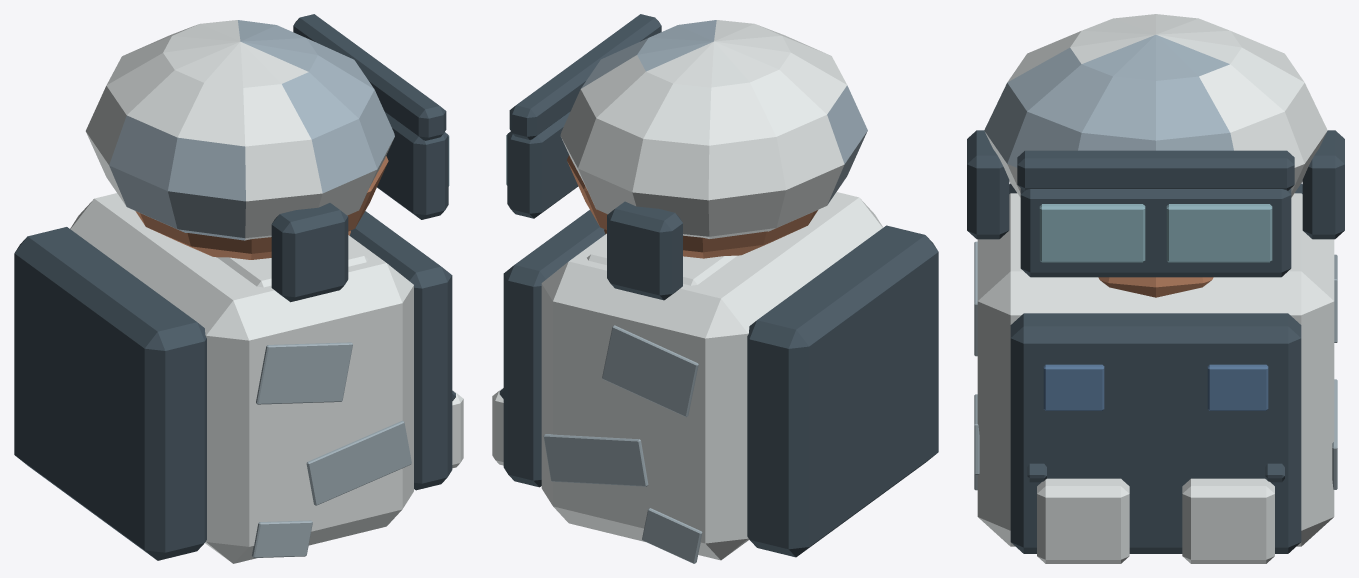
The model's file is night-ops.polar-camo.glb.
3 views of the same model, side by side, from view 1: azimuth 30°, elevation 25°; view 2: azimuth 150°, elevation 25°; view 3: azimuth 270°, elevation 25° (orthographic). The views are drawn at different scales.
Visible parts, largest first — view 1: night-ops_polar-camo__main__torso_finish_485863_0.03, night-ops_polar-camo__main__torso_finish_e0e5e5_0.03, night-ops_polar-camo__main__head_finish_e0e5e5_0.03|finish_a, night-ops_polar-camo__main__head_finish_485863_0.03, night-ops_polar-camo__main__torso_finish_a0afb7_0.03, night-ops_polar-camo__main__head_finish_bb8262_0.03; view 2: night-ops_polar-camo__main__torso_finish_485863_0.03, night-ops_polar-camo__main__torso_finish_e0e5e5_0.03, night-ops_polar-camo__main__head_finish_e0e5e5_0.03|finish_a, night-ops_polar-camo__main__head_finish_485863_0.03, night-ops_polar-camo__main__torso_finish_a0afb7_0.03, night-ops_polar-camo__main__head_finish_bb8262_0.03; view 3: night-ops_polar-camo__main__torso_finish_485863_0.03, night-ops_polar-camo__main__torso_finish_e0e5e5_0.03, night-ops_polar-camo__main__head_finish_e0e5e5_0.03|finish_a, night-ops_polar-camo__main__head_finish_485863_0.03, night-ops_polar-camo__main__head_finish_91b6c0_0.03, night-ops_polar-camo__main__torso_finish_5f7fa2_0.03, night-ops_polar-camo__main__torso_finish_a0afb7_0.03, night-ops_polar-camo__main__head_finish_bb8262_0.03.
Boxes of the visible parts, x1,y1,x2,y2 form: night-ops_polar-camo__main__torso_finish_485863_0.03: (14,211,455,560); night-ops_polar-camo__main__torso_finish_e0e5e5_0.03: (70,193,463,563); night-ops_polar-camo__main__head_finish_e0e5e5_0.03|finish_a: (85,20,394,240); night-ops_polar-camo__main__head_finish_485863_0.03: (271,14,448,302); night-ops_polar-camo__main__torso_finish_a0afb7_0.03: (252,342,411,557); night-ops_polar-camo__main__head_finish_bb8262_0.03: (135,156,388,259); night-ops_polar-camo__main__torso_finish_485863_0.03: (499,210,938,557); night-ops_polar-camo__main__torso_finish_e0e5e5_0.03: (492,192,883,560); night-ops_polar-camo__main__head_finish_e0e5e5_0.03|finish_a: (560,20,867,238); night-ops_polar-camo__main__head_finish_485863_0.03: (507,14,682,300); night-ops_polar-camo__main__torso_finish_a0afb7_0.03: (543,325,702,563); night-ops_polar-camo__main__head_finish_bb8262_0.03: (567,155,817,258); night-ops_polar-camo__main__torso_finish_485863_0.03: (1009,183,1302,553); night-ops_polar-camo__main__torso_finish_e0e5e5_0.03: (977,193,1334,563); night-ops_polar-camo__main__head_finish_e0e5e5_0.03|finish_a: (984,14,1327,197); night-ops_polar-camo__main__head_finish_485863_0.03: (967,130,1344,277); night-ops_polar-camo__main__head_finish_91b6c0_0.03: (1039,204,1272,262); night-ops_polar-camo__main__torso_finish_5f7fa2_0.03: (1043,364,1268,410); night-ops_polar-camo__main__torso_finish_a0afb7_0.03: (974,241,1337,490); night-ops_polar-camo__main__head_finish_bb8262_0.03: (1098,277,1213,297).
Bounding box in the file's own units: 30.25 × 39.5 × 28.6.
